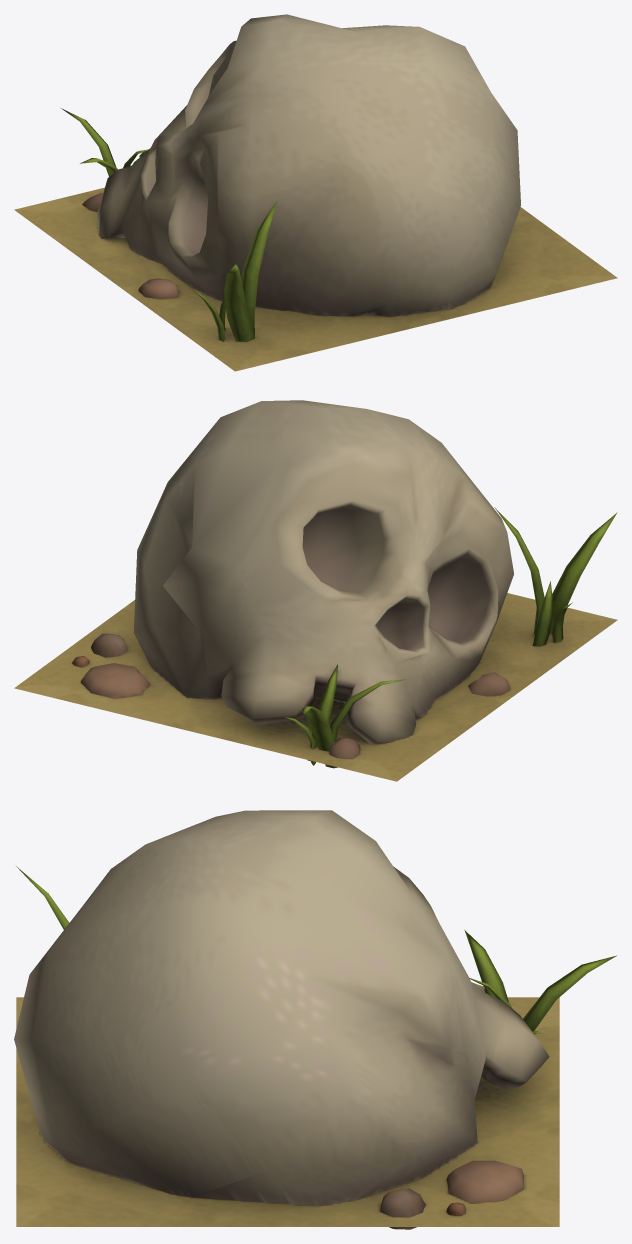
Rendered from {-ResteCrane.FBX.
3 renders of one model, top to bottom at view 1: azimuth 30°, elevation 25°; view 2: azimuth 150°, elevation 25°; view 3: azimuth 270°, elevation 25°, orthographic. The views are drawn at different scales.
Parts seen in each view (by area): view 1: {ResteCrane; view 2: {ResteCrane; view 3: {ResteCrane.
Part boxes in pixels (x1,y1,x2,y2): {ResteCrane: (14,14,617,371); {ResteCrane: (14,400,617,781); {ResteCrane: (14,810,616,1229).
Size of the model in its own units: 2 by 1.23 by 2.22.
